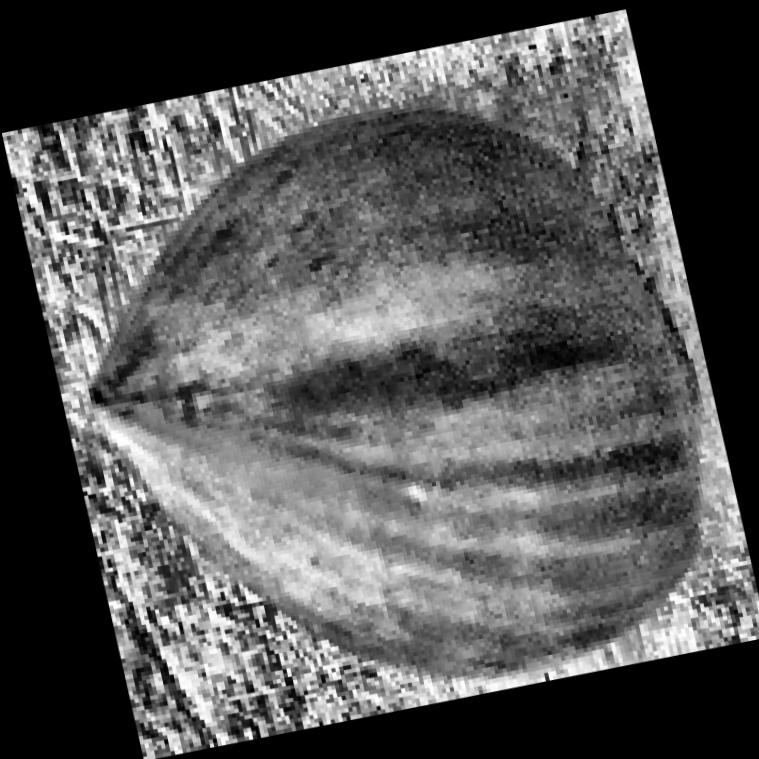damagedHazelnut: (4, 0, 759, 759)
